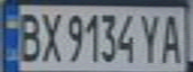1: (81, 10, 100, 62)
3: (100, 10, 121, 63)
4: (115, 10, 139, 63)
9: (63, 10, 84, 63)
A: (157, 10, 187, 65)
B: (12, 8, 45, 63)
X: (36, 8, 63, 63)
Y: (136, 10, 163, 64)
